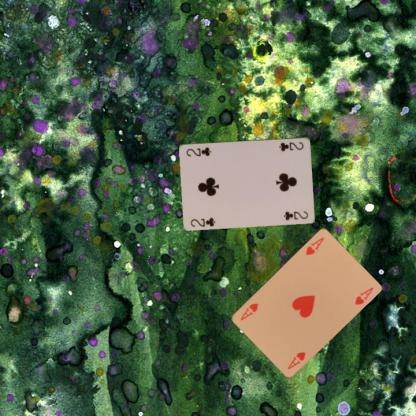2c: (188, 215, 217, 228), (277, 139, 305, 152)
Ah: (285, 349, 307, 371), (304, 234, 326, 256)
